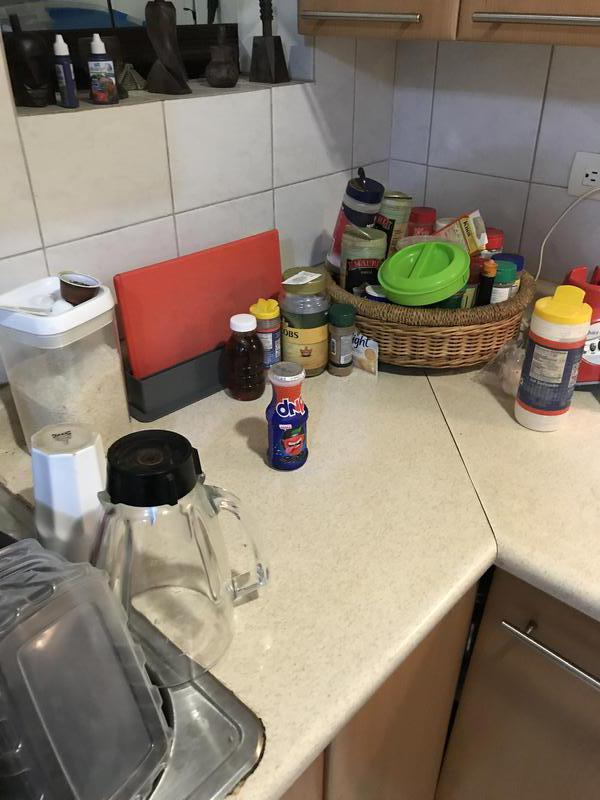danup: (264, 360, 310, 472)
